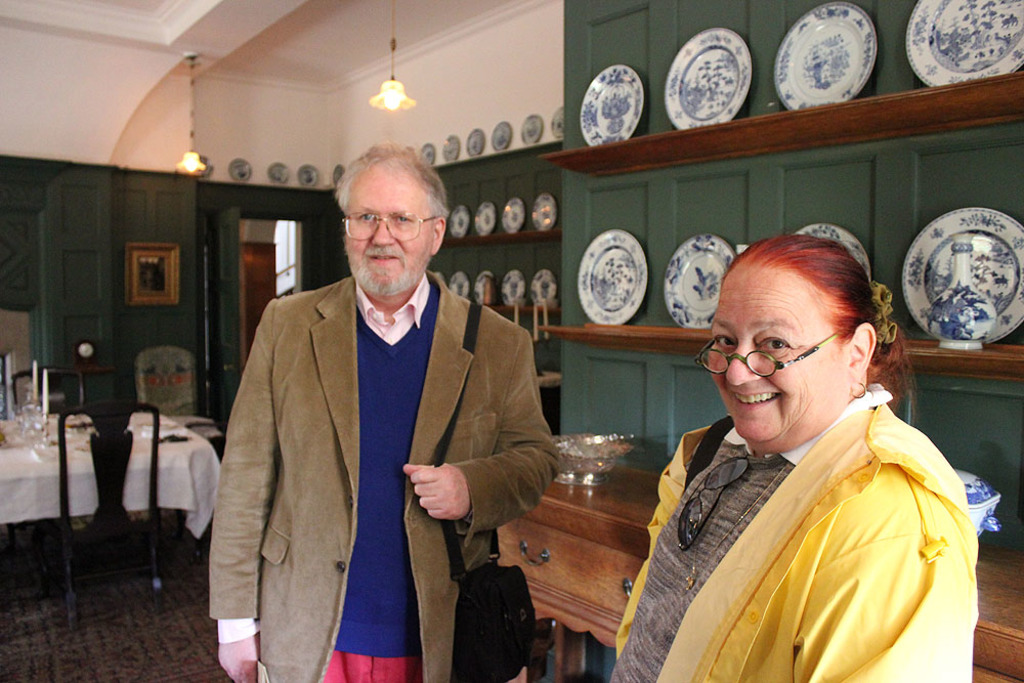plate: (768, 0, 875, 113), (656, 18, 759, 124), (658, 223, 755, 332), (778, 220, 869, 306), (578, 59, 649, 148), (510, 114, 545, 153), (531, 191, 561, 230), (470, 200, 505, 233), (499, 197, 528, 233), (296, 155, 317, 197), (470, 266, 492, 305), (500, 266, 521, 306), (459, 131, 488, 159), (494, 122, 517, 154), (412, 141, 438, 166), (550, 101, 567, 136), (450, 206, 468, 239), (446, 269, 465, 296), (444, 138, 460, 168), (266, 160, 288, 181), (330, 164, 344, 191)
